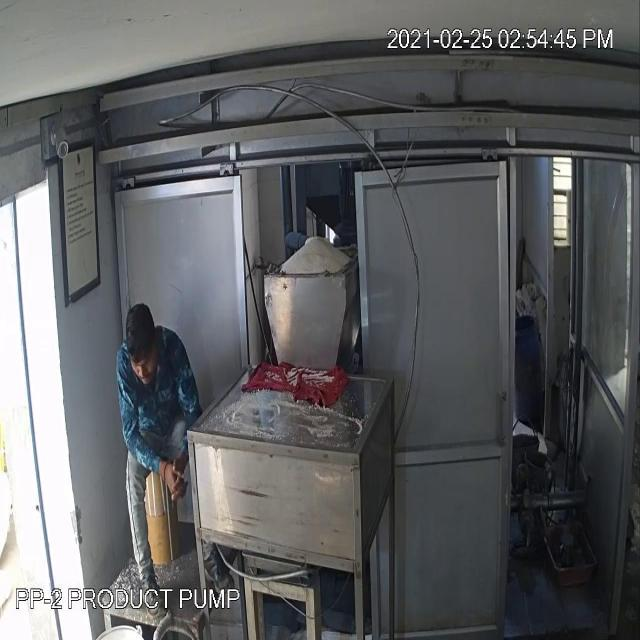no-helmet: (121, 300, 161, 370)
